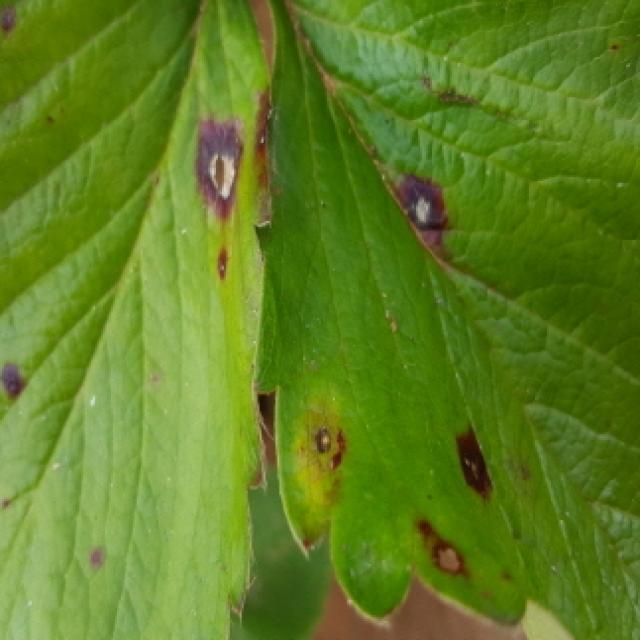Leaf Spot: (257, 0, 640, 640)
